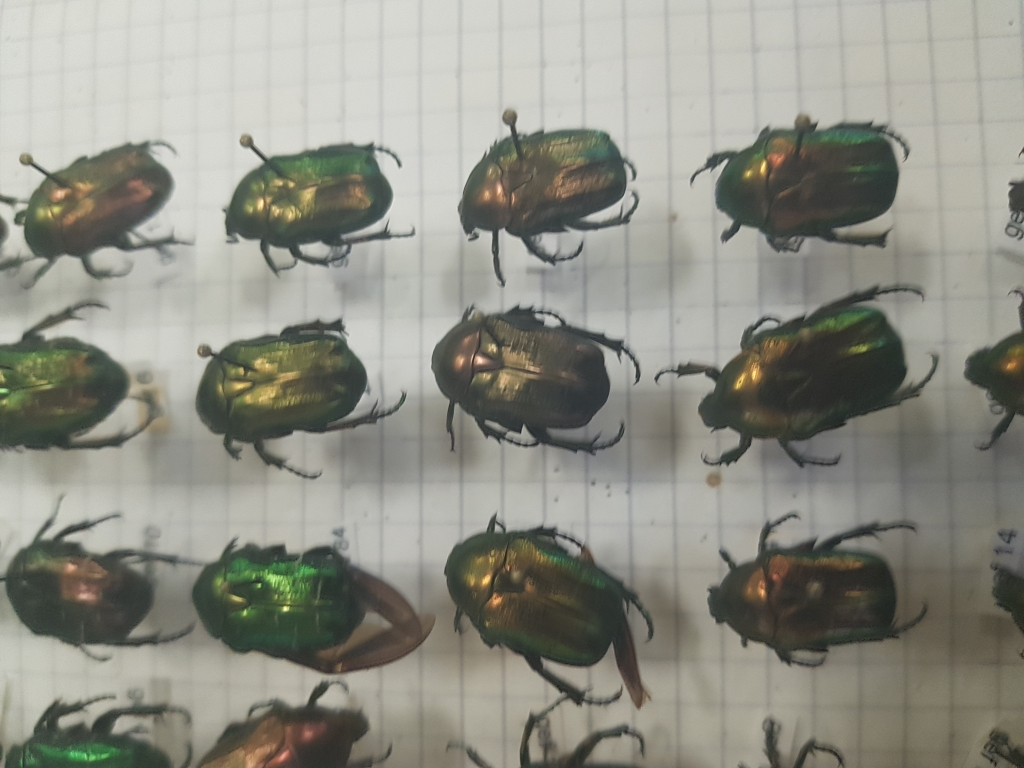Cetonia_aurata: (428, 293, 643, 466)
